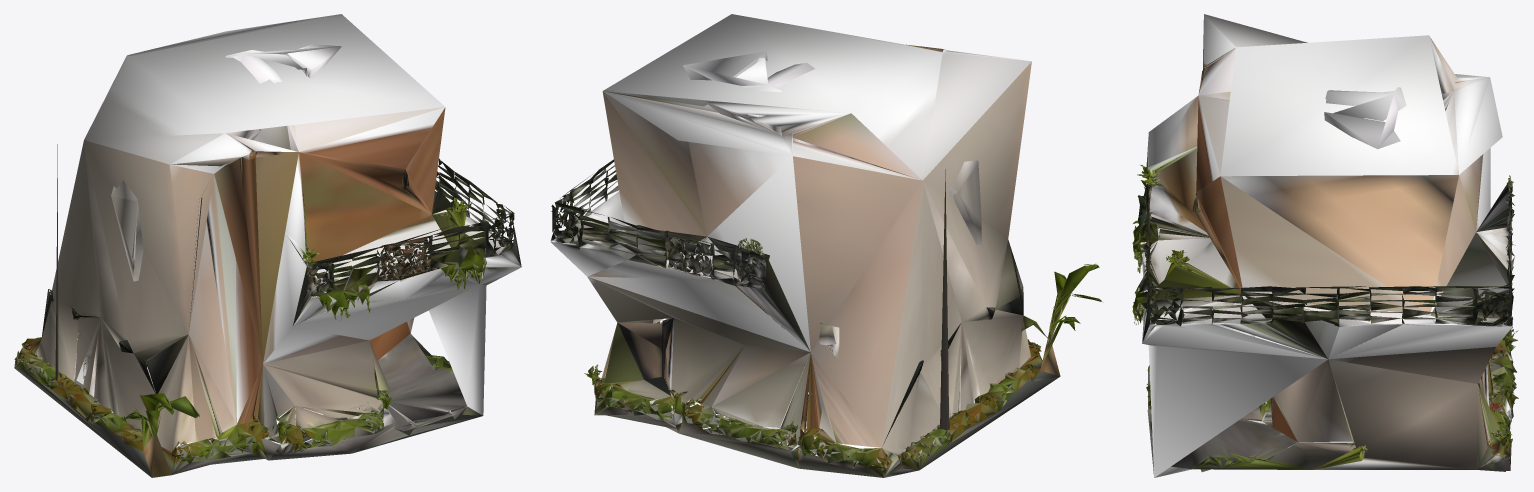
Rendered from World3cb28a4b86.glb.
The picture shows the model from 3 angles, left to right: view 1: azimuth 30°, elevation 25°; view 2: azimuth 150°, elevation 25°; view 3: azimuth 270°, elevation 25°; orthographic projection. The views are drawn at different scales.
Parts seen in each view (by area): view 1: World3cb28a4b86; view 2: World3cb28a4b86; view 3: World3cb28a4b86.
Boxes of the visible parts, x1,y1,x2,y2 form: World3cb28a4b86: (14,14,521,477); World3cb28a4b86: (550,14,1101,477); World3cb28a4b86: (1132,14,1518,477).
Size of the model in its own units: 7 by 5.8 by 6.1.
1 material, 1 textured.
